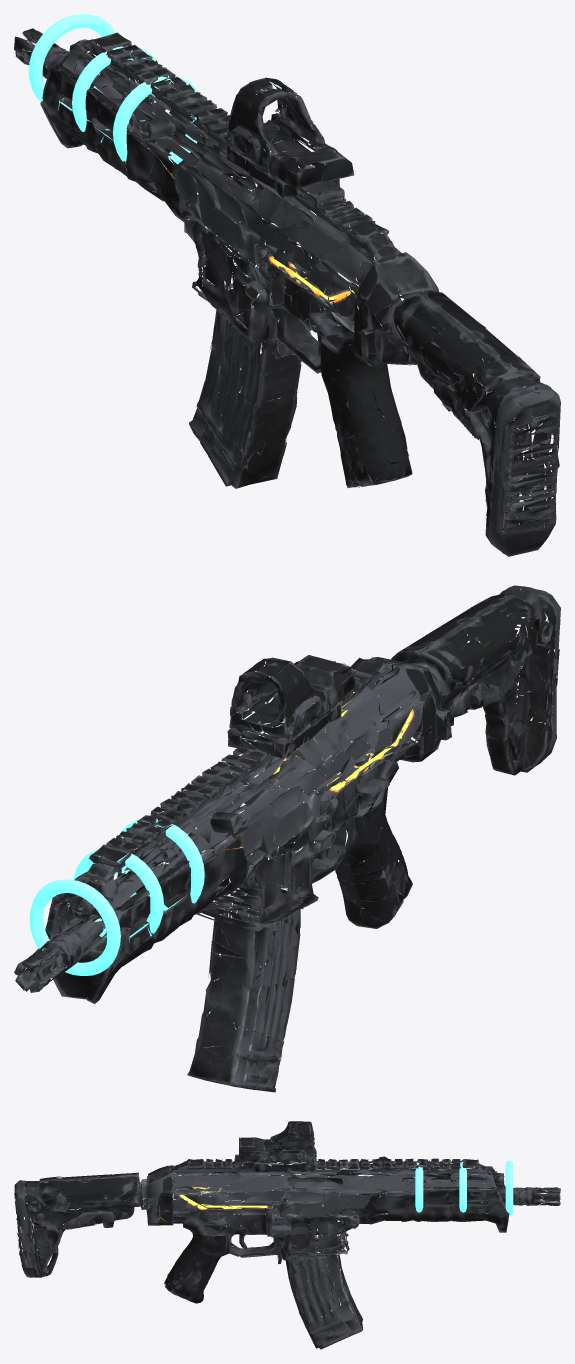
Rendered from rifle-fusion.glb.
The picture shows the model from 3 angles, top to bottom: view 1: azimuth 30°, elevation 25°; view 2: azimuth 150°, elevation 25°; view 3: azimuth 270°, elevation 25°; orthographic projection. The views are drawn at different scales.
Visible parts, largest first — view 1: RifleBody, RifleMag, RifleAccent; view 2: RifleBody, RifleMag, RifleAccent; view 3: RifleBody, RifleMag, RifleAccent.
Boxes of the visible parts, x1,y1,x2,y2 form: RifleBody: (14, 28, 560, 556); RifleMag: (189, 279, 310, 488); RifleAccent: (28, 14, 199, 172); RifleBody: (14, 585, 560, 1003); RifleMag: (187, 878, 318, 1092); RifleAccent: (29, 818, 204, 975); RifleBody: (14, 1121, 560, 1303); RifleMag: (281, 1236, 362, 1349); RifleAccent: (415, 1160, 513, 1215).
Size of the model in its own units: 0.118 by 0.5022 by 1.14.
Materials: 2 (1 with a texture image).
